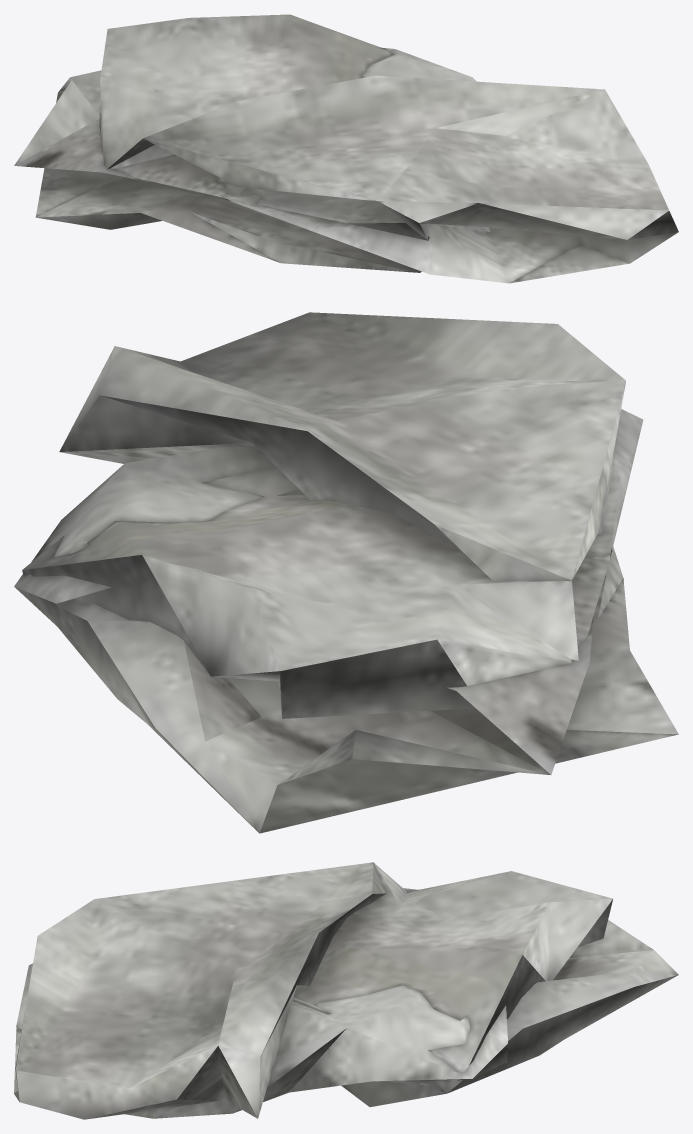
The model's file is rag_pillowcase_1_lod1_web.glb.
3 views of the same model, one above another, from view 1: azimuth 30°, elevation 25°; view 2: azimuth 150°, elevation 25°; view 3: azimuth 270°, elevation 25° (orthographic). The views are drawn at different scales.
Parts seen in each view (by area): view 1: rag_pillowcase_1_Cloth; view 2: rag_pillowcase_1_Cloth; view 3: rag_pillowcase_1_Cloth.
Boxes of the visible parts, left/top/right/bottom form: rag_pillowcase_1_Cloth: left=14, top=14, right=678, bottom=283; rag_pillowcase_1_Cloth: left=14, top=312, right=678, bottom=833; rag_pillowcase_1_Cloth: left=14, top=862, right=678, bottom=1119.
Bounding box in the file's own units: 0.399 × 0.0871 × 0.4521.
1 material, 1 textured.
